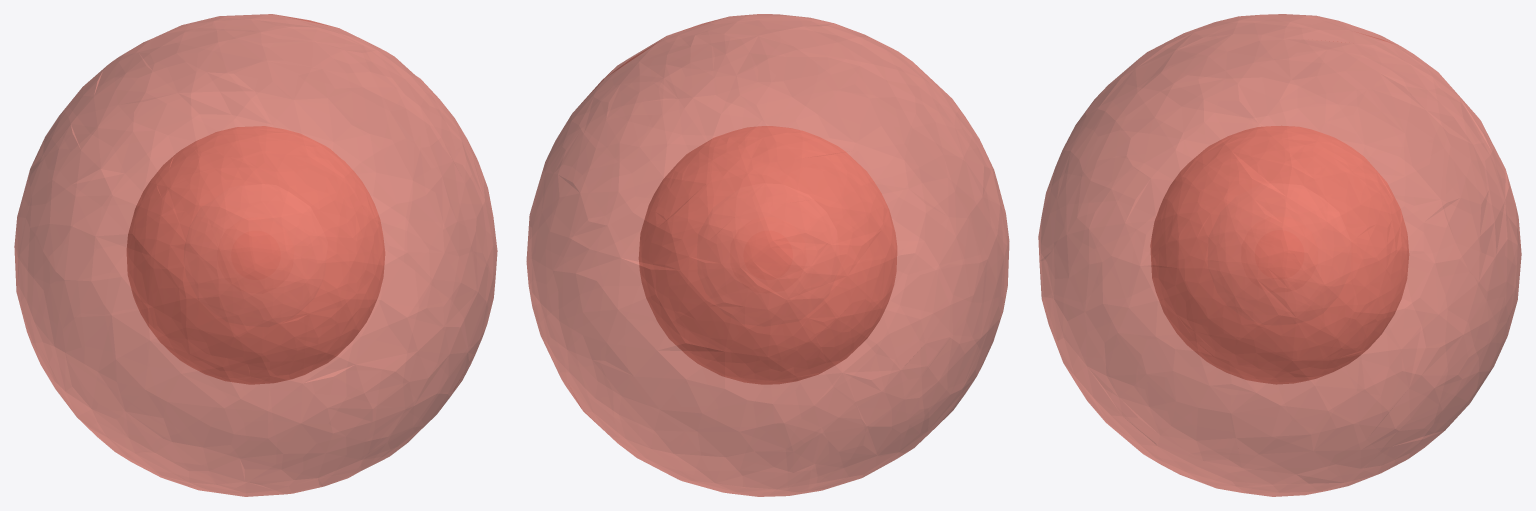
File: orbital.glb
3 views of the same model, side by side, from view 1: azimuth 30°, elevation 25°; view 2: azimuth 150°, elevation 25°; view 3: azimuth 270°, elevation 25° (orthographic).
Parts seen in each view (by area): view 1: Li_n2_s_ml0_node, Li_n1_s_ml0_node; view 2: Li_n2_s_ml0_node, Li_n1_s_ml0_node; view 3: Li_n2_s_ml0_node, Li_n1_s_ml0_node.
Boxes of the visible parts, x1=… form: Li_n2_s_ml0_node: x1=14, y1=14, x2=497, y2=496; Li_n1_s_ml0_node: x1=127, y1=126, x2=384, y2=384; Li_n2_s_ml0_node: x1=526, y1=14, x2=1009, y2=496; Li_n1_s_ml0_node: x1=639, y1=126, x2=896, y2=384; Li_n2_s_ml0_node: x1=1038, y1=14, x2=1521, y2=496; Li_n1_s_ml0_node: x1=1150, y1=126, x2=1408, y2=384.
Bounding box in the file's own units: 1.07 × 1.07 × 1.07.
